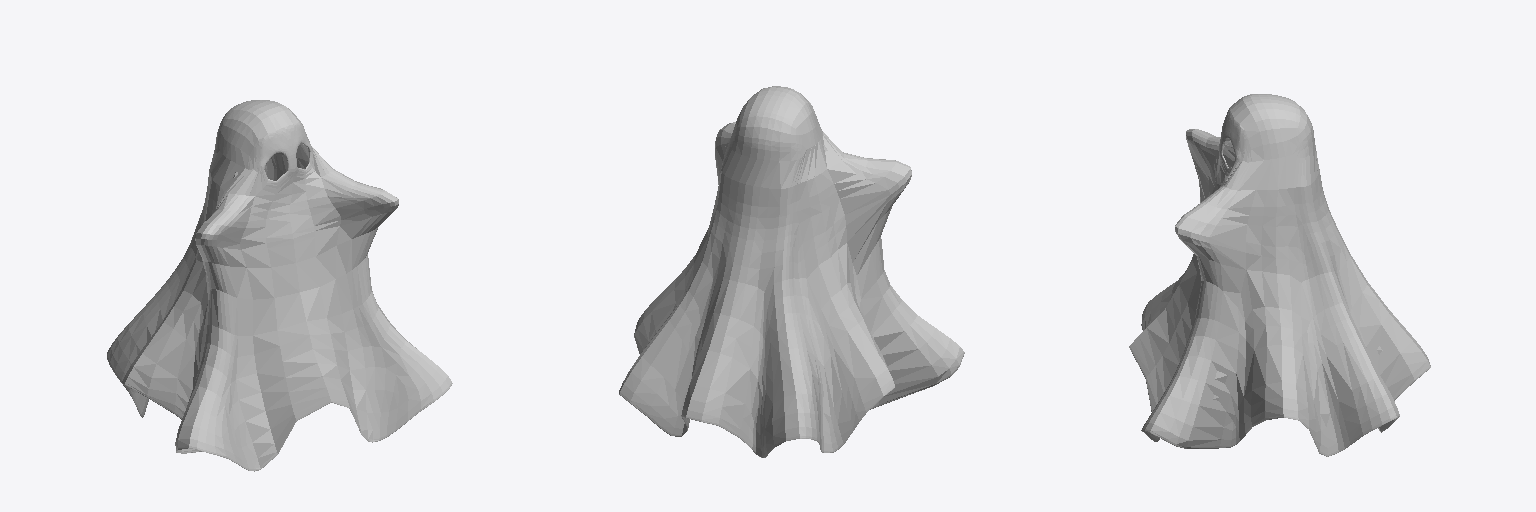
3 renders of one model, left to right at view 1: azimuth 30°, elevation 25°; view 2: azimuth 150°, elevation 25°; view 3: azimuth 270°, elevation 25°, orthographic.
Parts seen in each view (by area): view 1: youlinguu2:Group3 walk1; view 2: youlinguu2:Group3 walk1; view 3: youlinguu2:Group3 walk1.
Boxes of the visible parts, <box> form: youlinguu2:Group3 walk1: <box>107,100,452,471</box>; youlinguu2:Group3 walk1: <box>619,86,964,457</box>; youlinguu2:Group3 walk1: <box>1129,94,1430,456</box>.
Size of the model in its own units: 35.34 by 39.42 by 34.24.